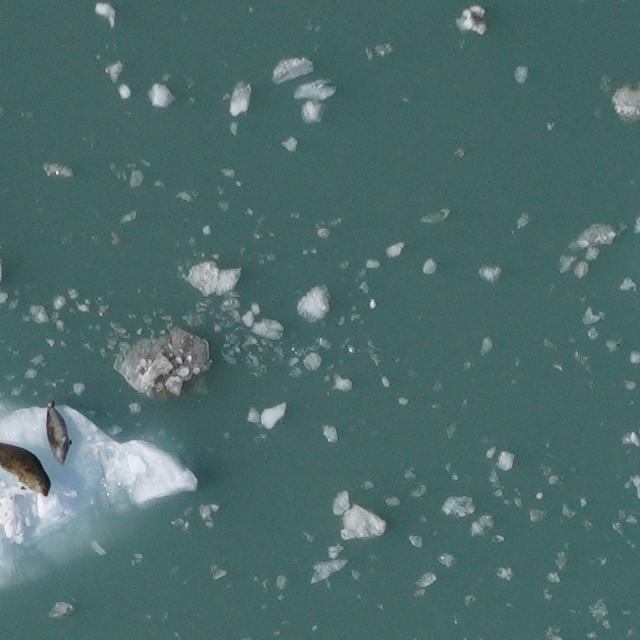seal: (0, 439, 56, 502), (43, 397, 76, 469)
